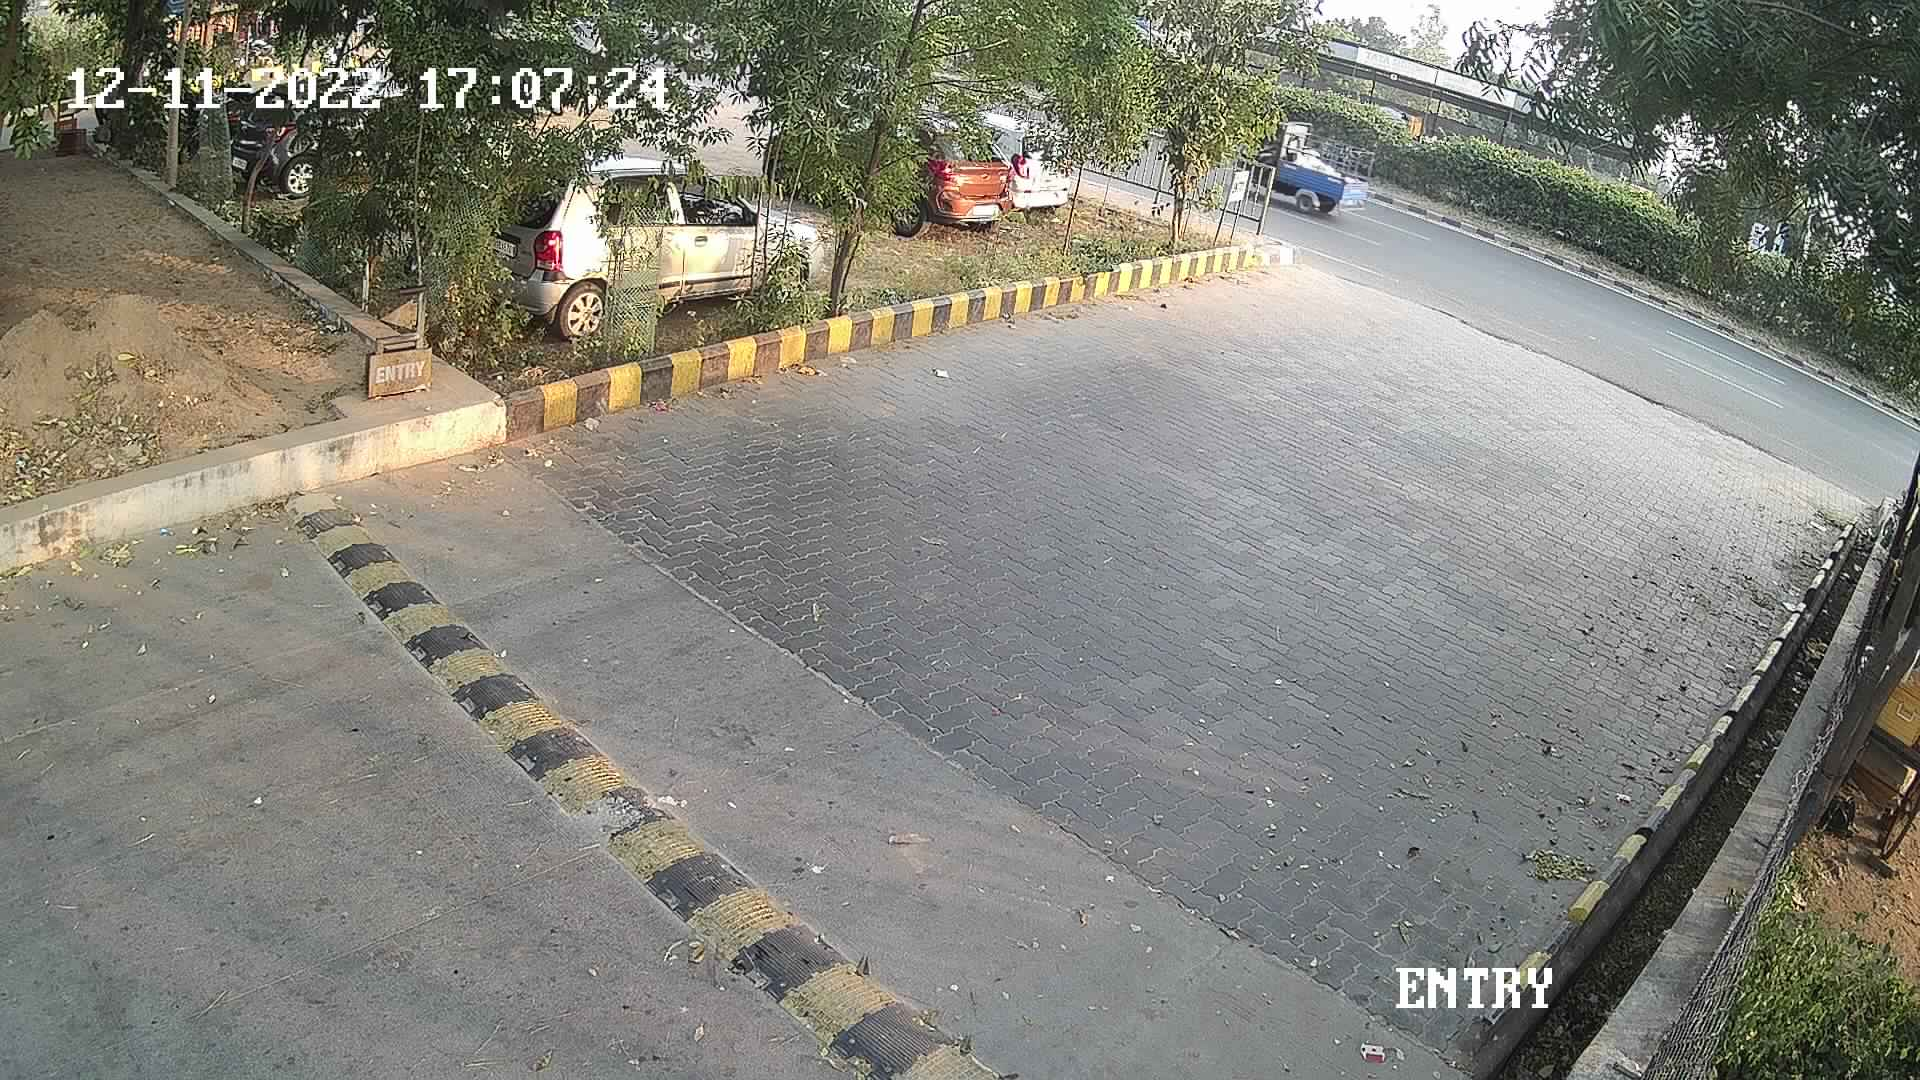Auto: (1226, 104, 1375, 220)
Car: (477, 146, 829, 347), (874, 105, 1023, 240), (975, 98, 1077, 219)
